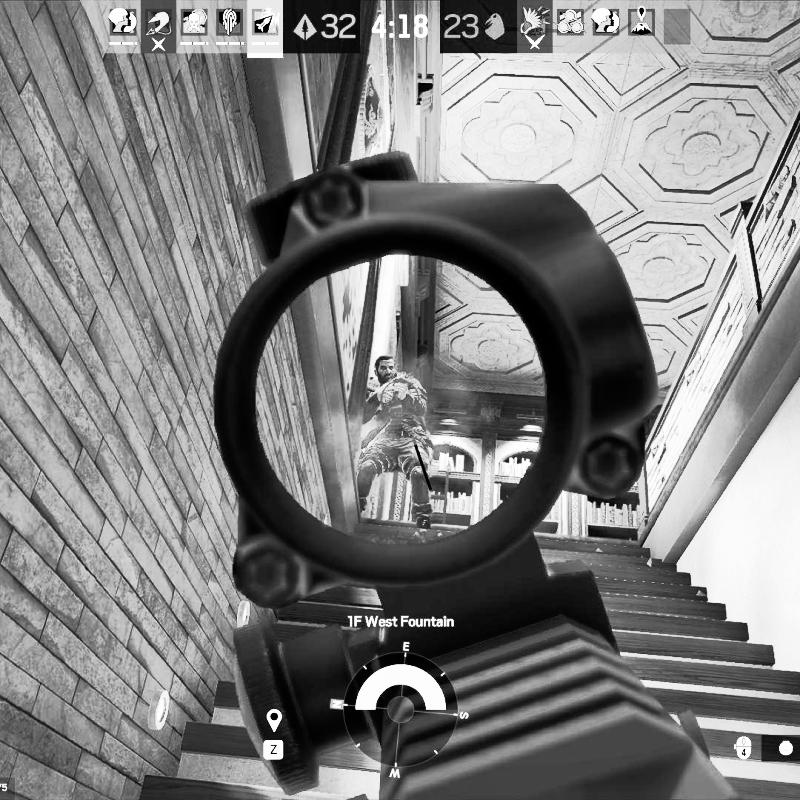Character: (353, 352, 439, 532)
Head: (374, 354, 399, 386)
